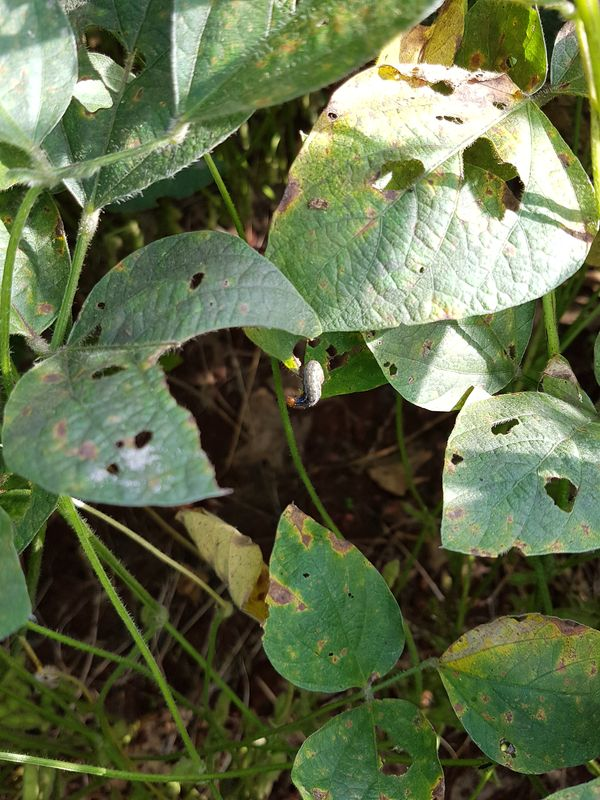Spodoptera_albula: (274, 353, 332, 417)
